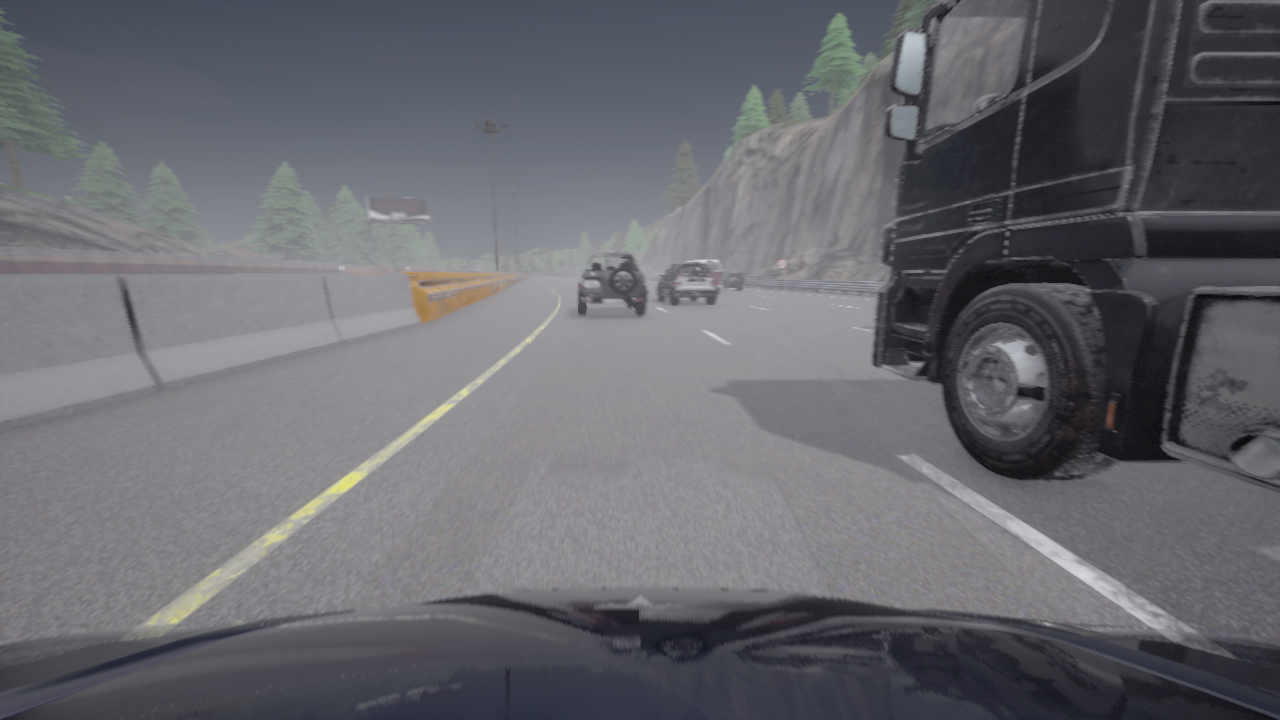cyclist: (871, 0, 1279, 492), (0, 588, 1279, 719), (577, 251, 647, 316), (657, 263, 716, 304), (682, 259, 723, 293), (720, 269, 743, 290)
